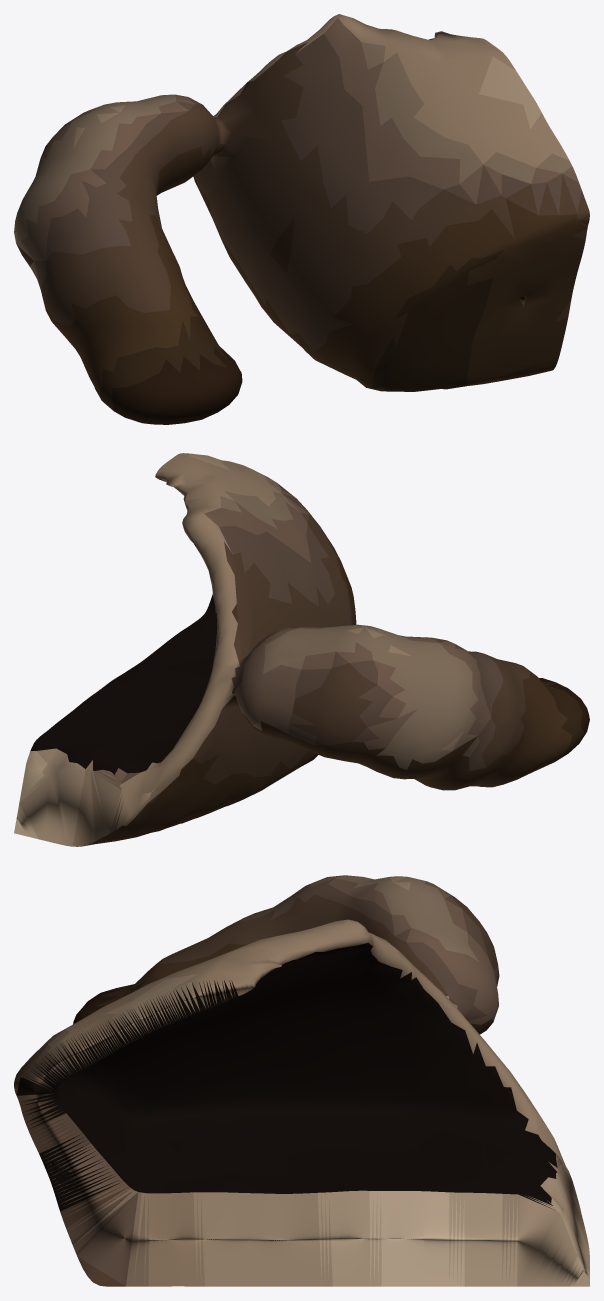
The model's file is tan_dome_bl_wreck.glb.
3 views of the same model, one above another, from view 1: azimuth 30°, elevation 25°; view 2: azimuth 150°, elevation 25°; view 3: azimuth 270°, elevation 25° (orthographic). The views are drawn at different scales.
Visible parts, largest first — view 1: tan_dome_bl_wreck; view 2: tan_dome_bl_wreck; view 3: tan_dome_bl_wreck.
Boxes of the visible parts, x1,y1,x2,y2 form: tan_dome_bl_wreck: (14,14,589,424); tan_dome_bl_wreck: (14,453,589,846); tan_dome_bl_wreck: (14,875,589,1286).
Size of the model in its own units: 20.79 by 13.91 by 22.96.
